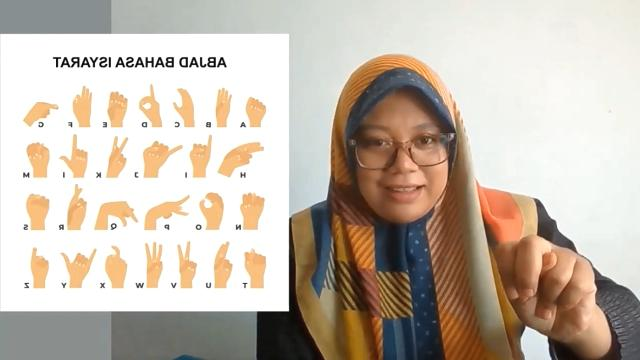N: (493, 232, 599, 340)
